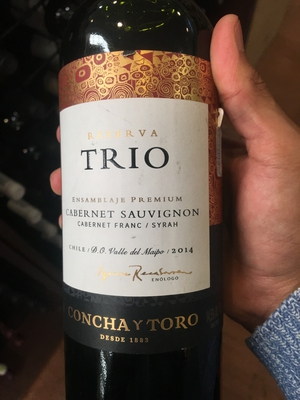trio cabernet sauvignon: (45, 6, 268, 400)
